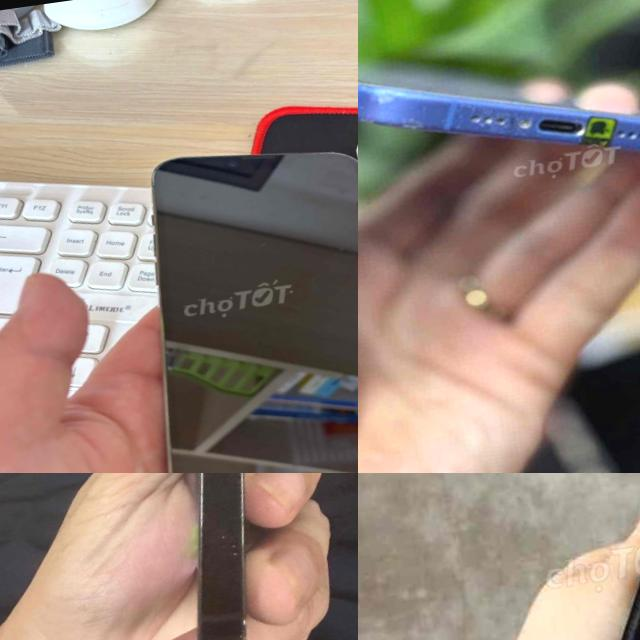scratch: (448, 82, 556, 158), (216, 523, 265, 640), (358, 79, 412, 126), (398, 118, 427, 136), (422, 100, 436, 116)
